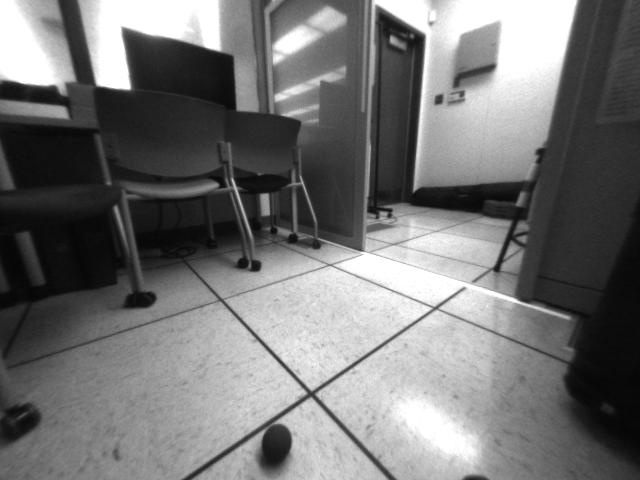dogtoy: (255, 415, 301, 472)
